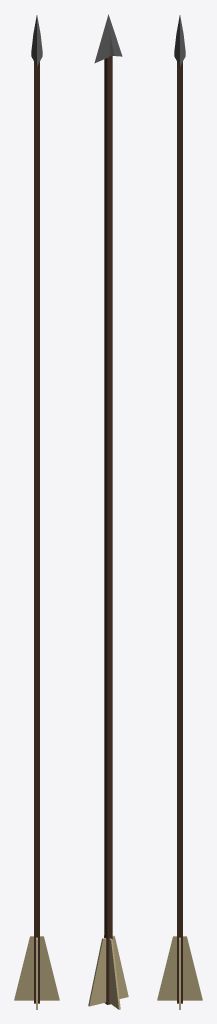
The model's file is Arrow.glb.
3 views of the same model, side by side, from view 1: azimuth 90°, elevation 25°; view 2: azimuth 210°, elevation 25°; view 3: azimuth 270°, elevation 25° (orthographic).
Parts seen in each view (by area): view 1: Arrow; view 2: Arrow; view 3: Arrow.
Part boxes in pixels (x1,y1,x2,y2): Arrow: [14, 15, 59, 1009]; Arrow: [88, 14, 128, 1009]; Arrow: [157, 15, 202, 1009].
Bounding box in the file's own units: 0.0306 × 0.73 × 0.0306.
Materials: 1 (1 with a texture image).
